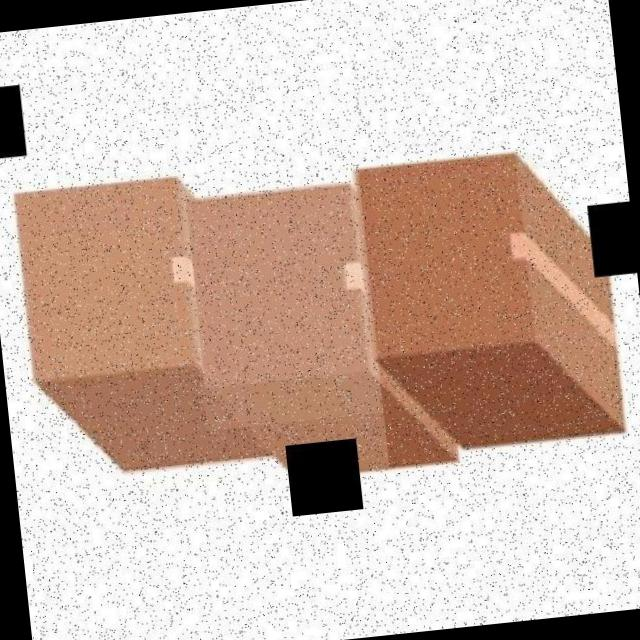box: (358, 138, 634, 466), (180, 166, 380, 430)
